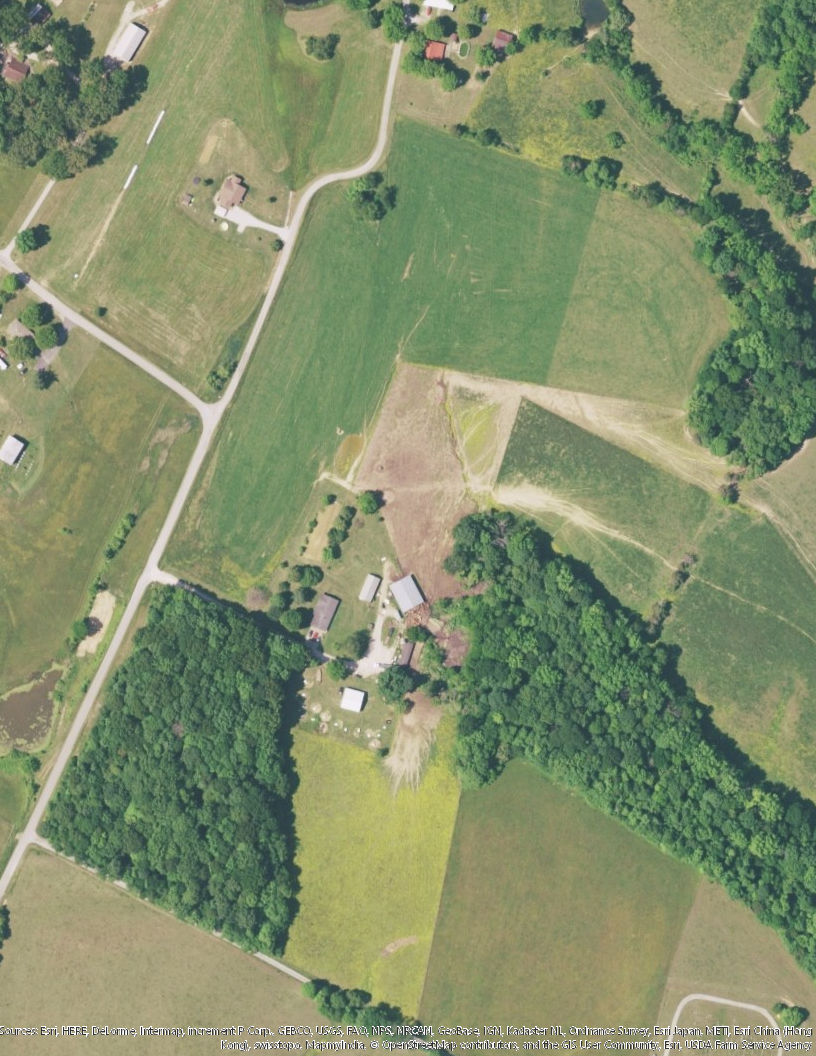cafo: (388, 572, 430, 618)
